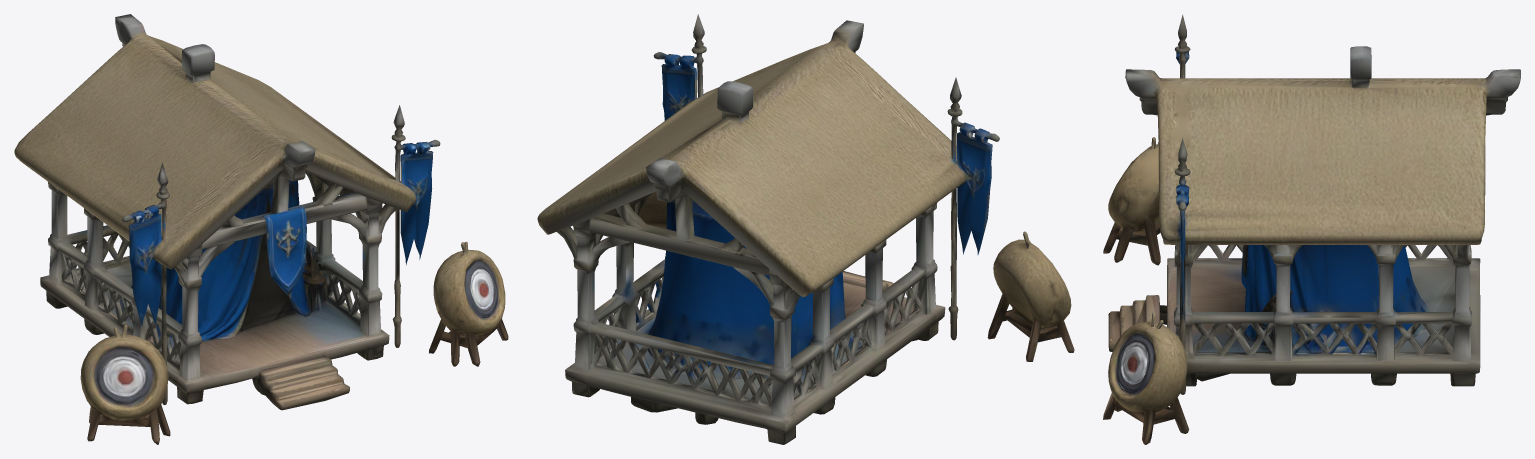
File: elf_range.glb
3 views of the same model, side by side, from view 1: azimuth 30°, elevation 25°; view 2: azimuth 150°, elevation 25°; view 3: azimuth 270°, elevation 25° (orthographic). The views are drawn at different scales.
Visible parts, largest first — view 1: node_0; view 2: node_0; view 3: node_0.
Boxes of the visible parts, x1,y1,x2,y2 form: node_0: (14,14,508,444); node_0: (537,14,1074,444); node_0: (1103,14,1520,444).
Size of the model in its own units: 0.9003 by 0.5488 by 0.7267.
Materials: 1 (1 with a texture image).
